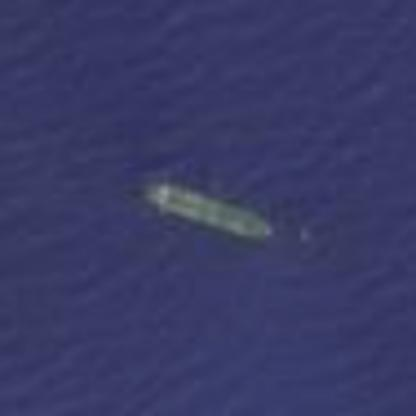ship: (121, 168, 280, 252)
